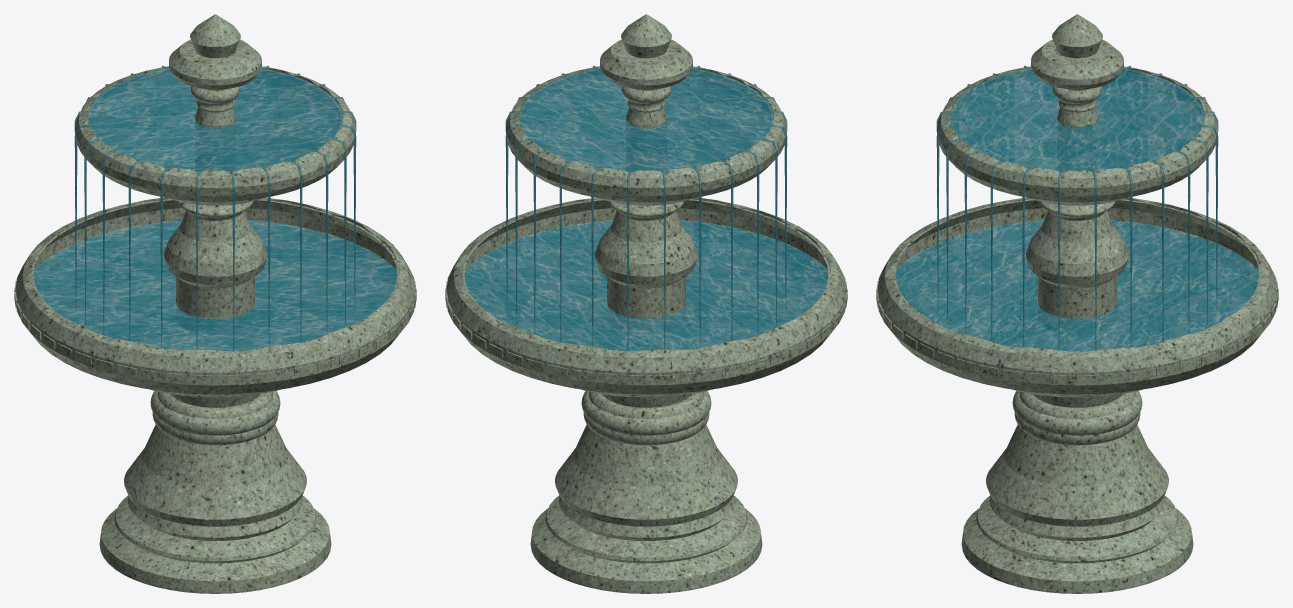
The picture shows the model from 3 angles, left to right: view 1: azimuth 30°, elevation 25°; view 2: azimuth 150°, elevation 25°; view 3: azimuth 270°, elevation 25°; orthographic projection.
Size of the model in its own units: 1.72 by 2.5 by 1.72.
3 materials, 3 textured.
